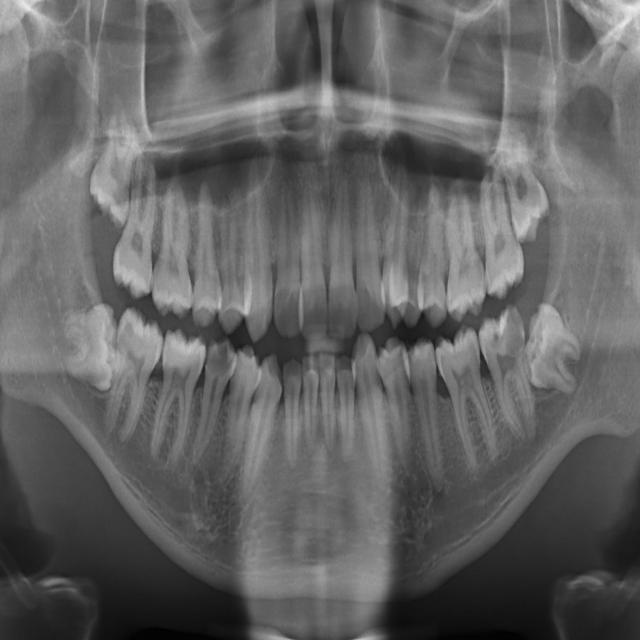3M ESPE Implant: (80, 89, 150, 232)
AGS Medikal Implant: (352, 147, 384, 333)
AMerOss Implant: (378, 135, 412, 332)
Amalgam filling: (398, 182, 425, 332)
Anthogyr Implant: (417, 171, 448, 331)
Bicon Implant: (444, 169, 488, 322)
BioHorizons Implant: (477, 148, 529, 302)
BioLife Implant: (501, 126, 557, 248)
Biomet 3i Implant: (524, 294, 586, 400)
Blue Sky Bio Implant: (473, 300, 548, 451)
Camlog Implant: (429, 320, 504, 482)
Caries: (142, 210, 142, 211)
Composite filling: (405, 335, 449, 499)
Cowellmedi Implant: (378, 334, 418, 484)
Crown: (347, 330, 400, 504)
DENTSPLY Implant: (336, 352, 358, 466)
Dentatus Implant: (318, 349, 340, 458)
Dentis Implant: (303, 355, 322, 458)
Dentium Implant: (283, 347, 303, 473)
Euroteknika Implant: (234, 348, 290, 511)
Filling: (212, 341, 262, 489)
Frontier Implant: (189, 334, 237, 472)
Hiossen Implant: (151, 176, 194, 322)
Implant: (123, 395, 123, 396)
Implant Direct: (144, 326, 209, 477)
Keystone Dental Implant: (53, 290, 120, 394)
MIS Implant: (193, 172, 222, 330)
Mandible: (217, 180, 247, 334)
Maxilla: (244, 140, 277, 345)
Megagen Implant: (274, 149, 303, 340)
Neodent Implant: (299, 153, 329, 342)
Neoss Implant: (328, 157, 361, 343)
